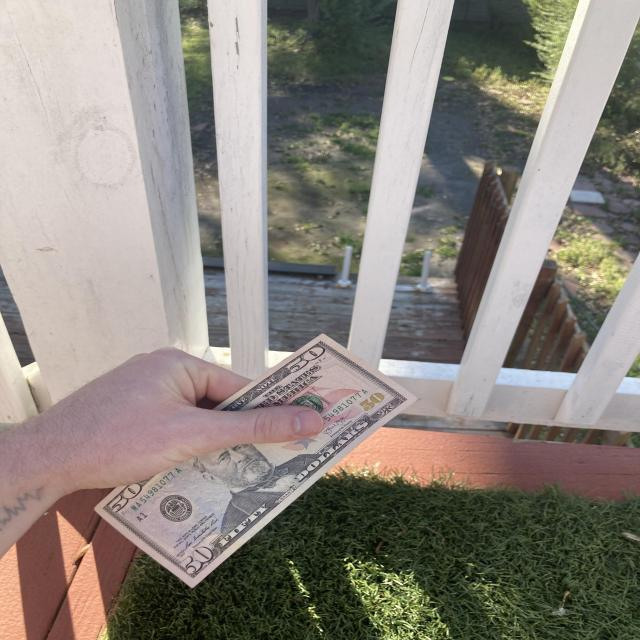fifty: (91, 333, 419, 589)
